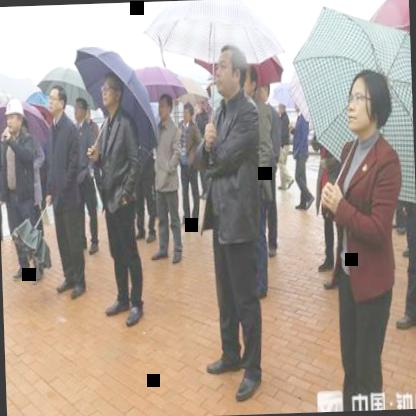head: (343, 64, 396, 145), (212, 42, 252, 104), (98, 70, 126, 113), (44, 83, 69, 120), (154, 91, 175, 124), (239, 64, 259, 98), (70, 92, 89, 126), (180, 100, 196, 124)
helmet: (2, 96, 25, 136)
